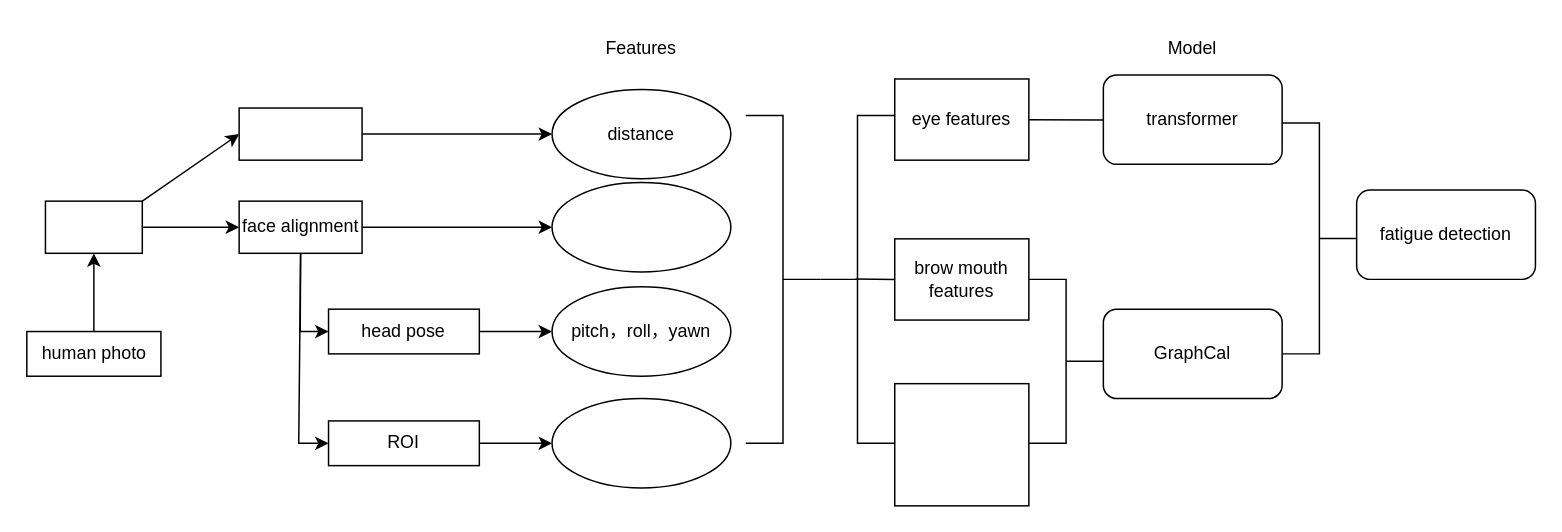
Image size: 1562x532. Some labels were removed from this diagram. The shapes that lost their labels are listed below. From the top down, each one's centre as x and y in pixels, then its label:
At [300,133]: "distance estimation".
At [93,226]: "face detection".
At [641,226]: "eye state mouth state".
At [641,442]: "brown，emotion".
At [961,444]: "multi-signals: distance, rotate".
